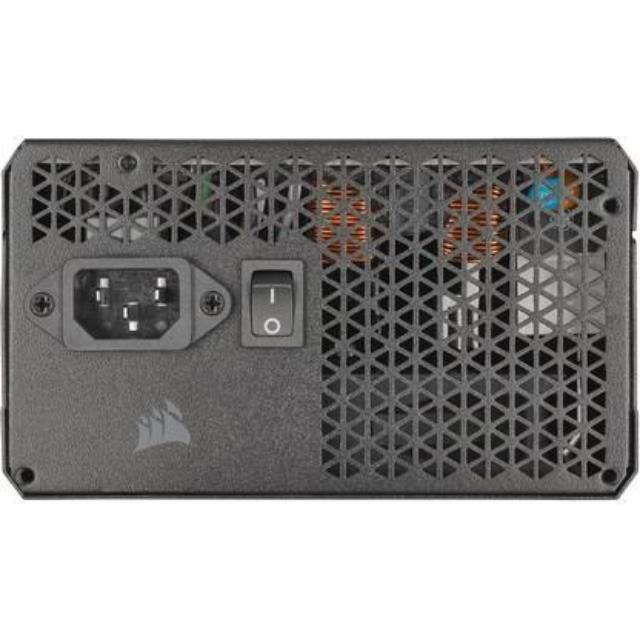PSU: (0, 119, 640, 513)
